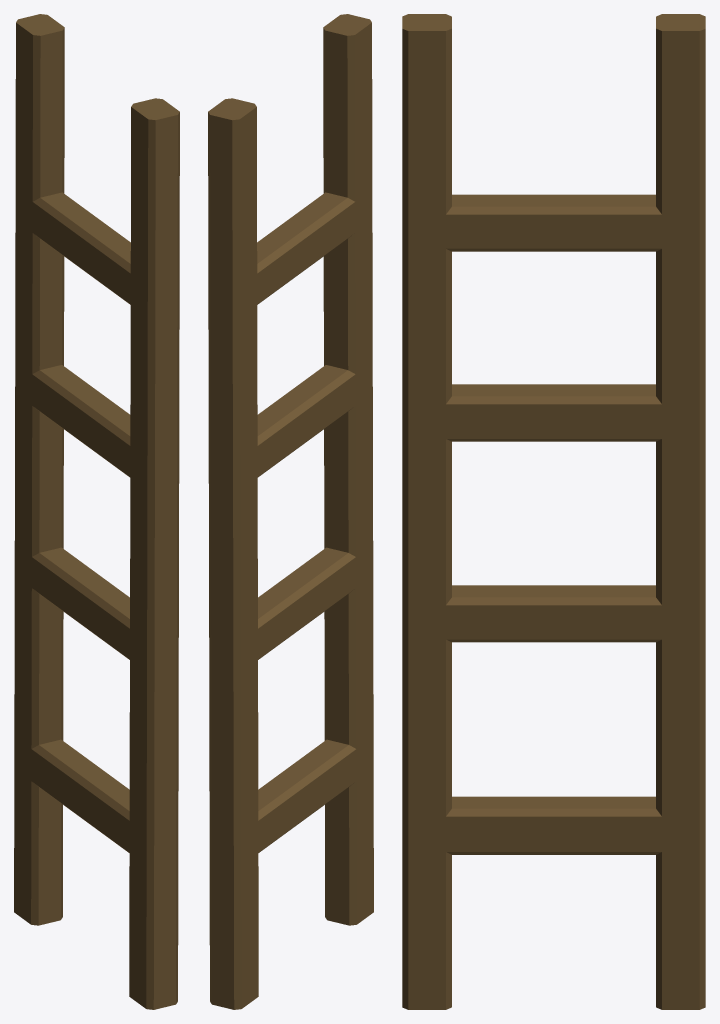
The model's file is Escalera.fbx.
3 renders of one model, left to right at view 1: azimuth 30°, elevation 25°; view 2: azimuth 150°, elevation 25°; view 3: azimuth 270°, elevation 25°, orthographic. The views are drawn at different scales.
Parts seen in each view (by area): view 1: polySurface10; view 2: polySurface10; view 3: polySurface10.
Part boxes in pixels (bbox=[...]): polySurface10: bbox=[14, 14, 179, 1009]; polySurface10: bbox=[208, 14, 373, 1009]; polySurface10: bbox=[402, 14, 705, 1009].
Size of the model in its own units: 20.69 by 522 by 147.
